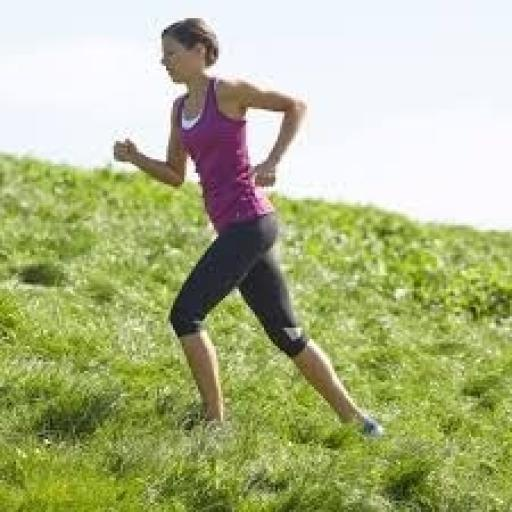running: (109, 14, 389, 446)
